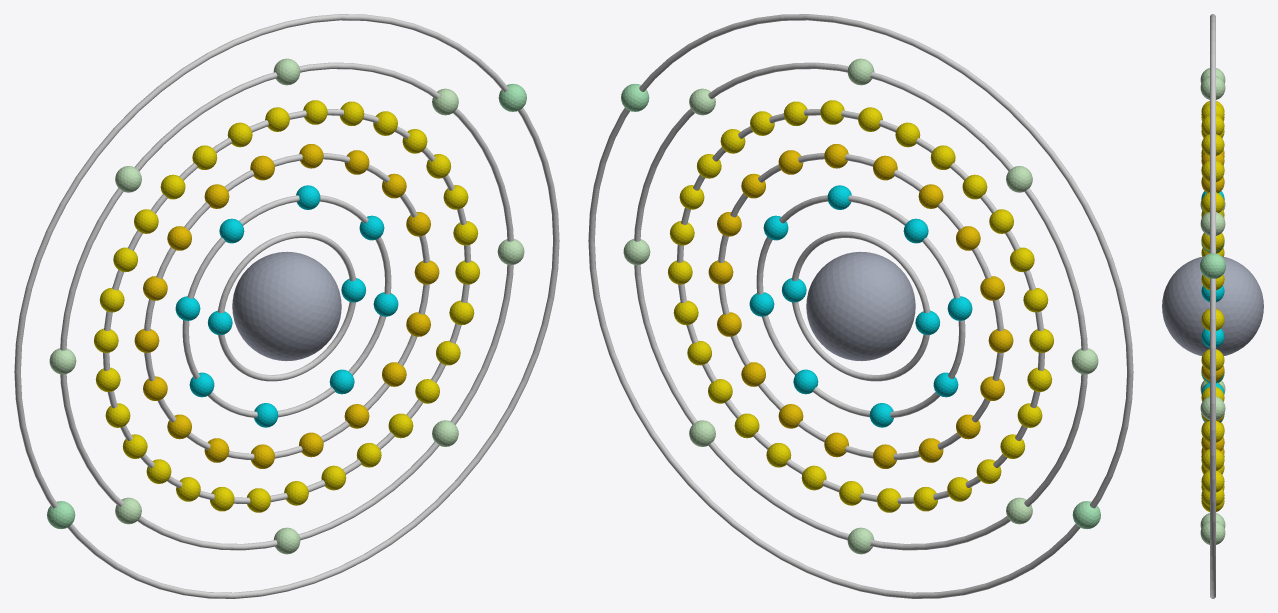
The picture shows the model from 3 angles, left to right: view 1: azimuth 30°, elevation 25°; view 2: azimuth 150°, elevation 25°; view 3: azimuth 270°, elevation 25°; orthographic projection. The views are drawn at different scales.
Parts seen in each view (by area): view 1: world; view 2: world; view 3: world.
Part boxes in pixels (<box>): world: <box>14,14,559,598</box>; world: <box>588,14,1133,598</box>; world: <box>1162,14,1263,598</box>.
Size of the model in its own units: 2.53 by 2.53 by 0.44.
